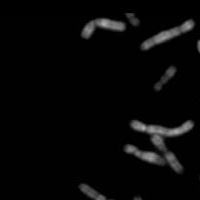chromosome: (141, 19, 194, 50), (151, 134, 183, 171), (131, 118, 193, 136), (82, 18, 126, 41), (124, 145, 166, 169), (79, 183, 122, 200), (154, 65, 175, 90), (196, 39, 200, 64), (130, 196, 143, 200)
